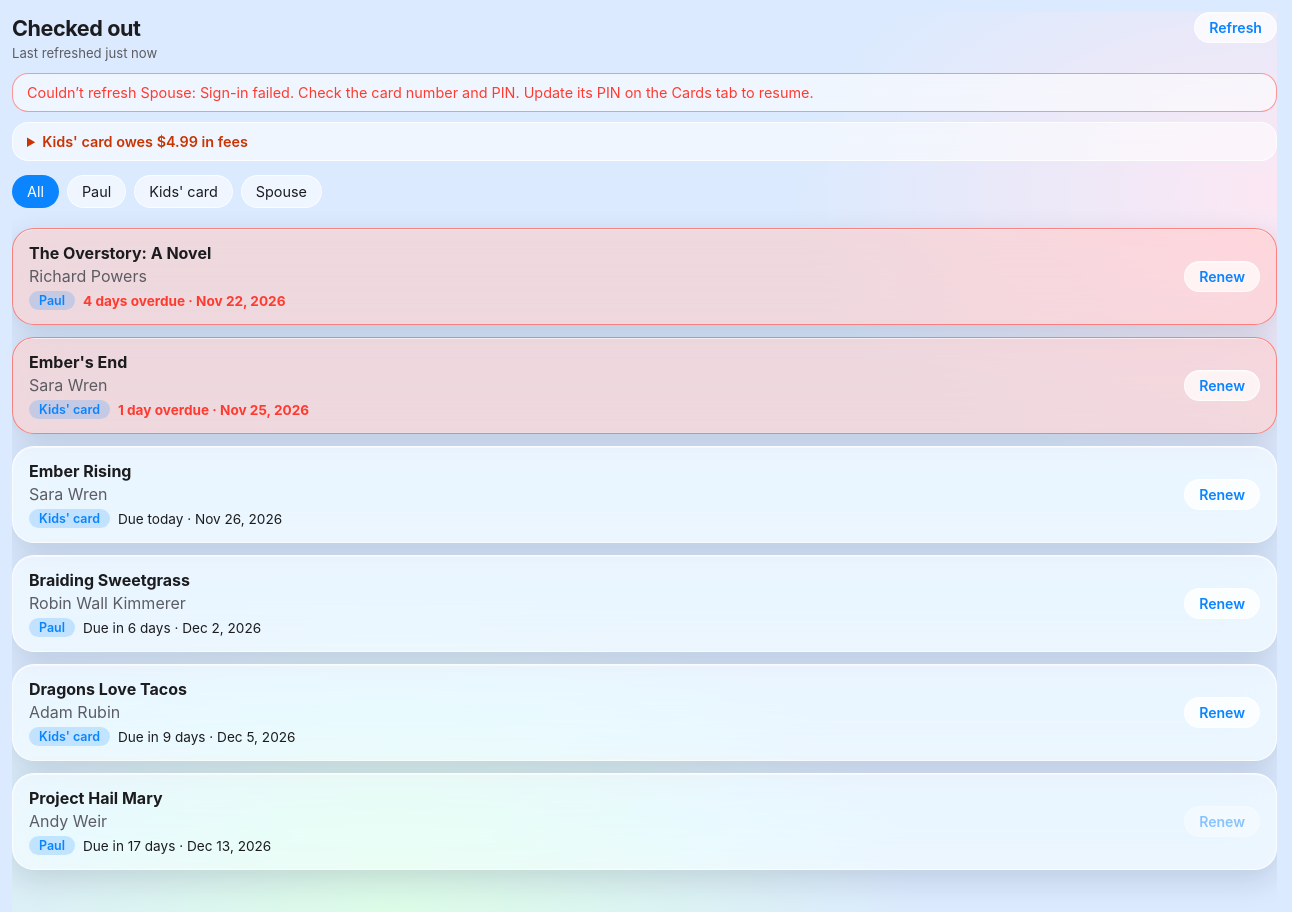
Test case: Checkouts › shows per-item renewal results, including failures from the library
Click the button with aria-label "Renew Ember Rising" at [1222, 495], box [1184,479,1260,510]
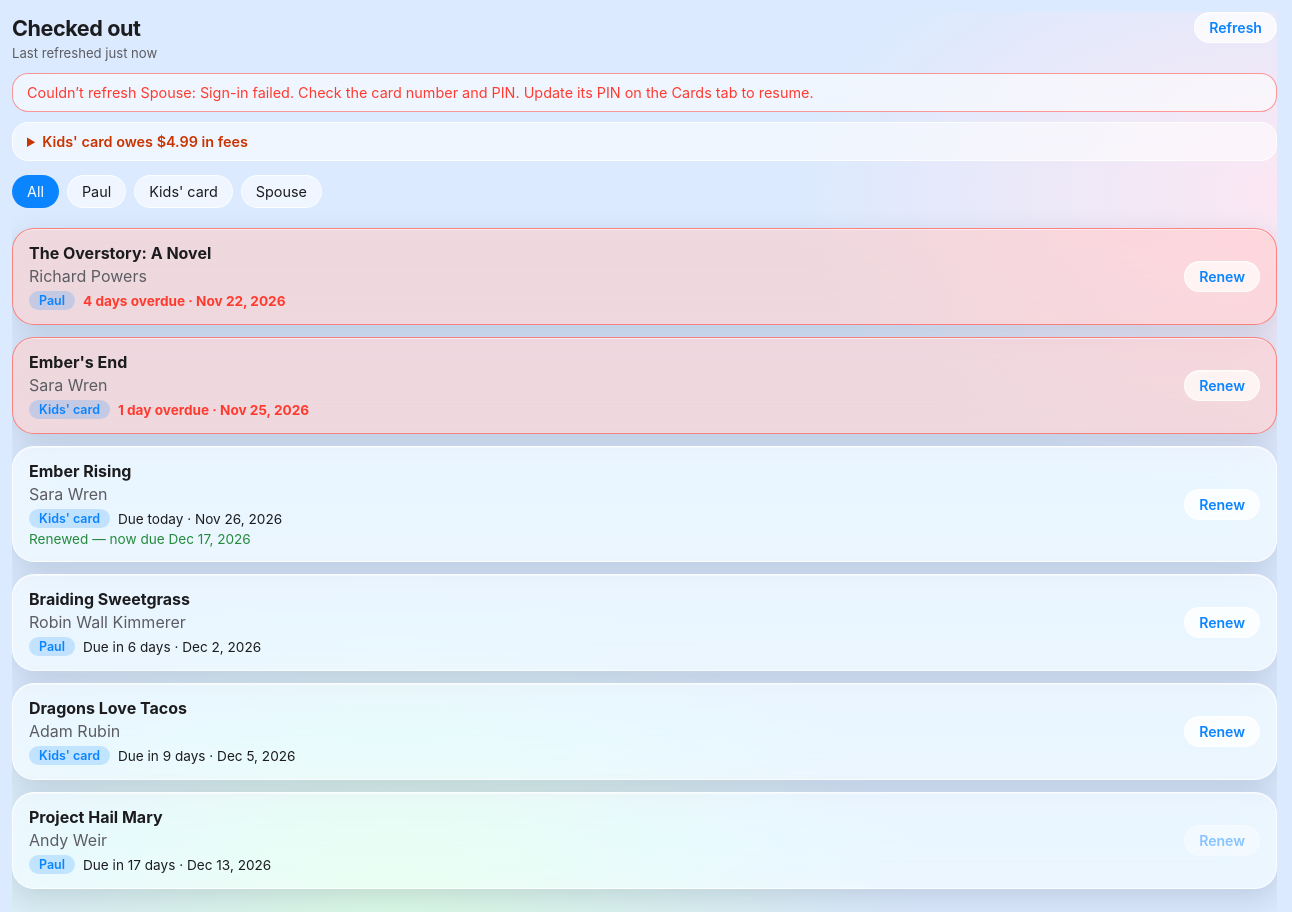
Expected: the text "Renewed — now due Dec 17, 2026" is shown, [29,531,282,547]
Click the button with aria-label "Renew Ember's End" at [1222, 386], box [1184,370,1260,401]
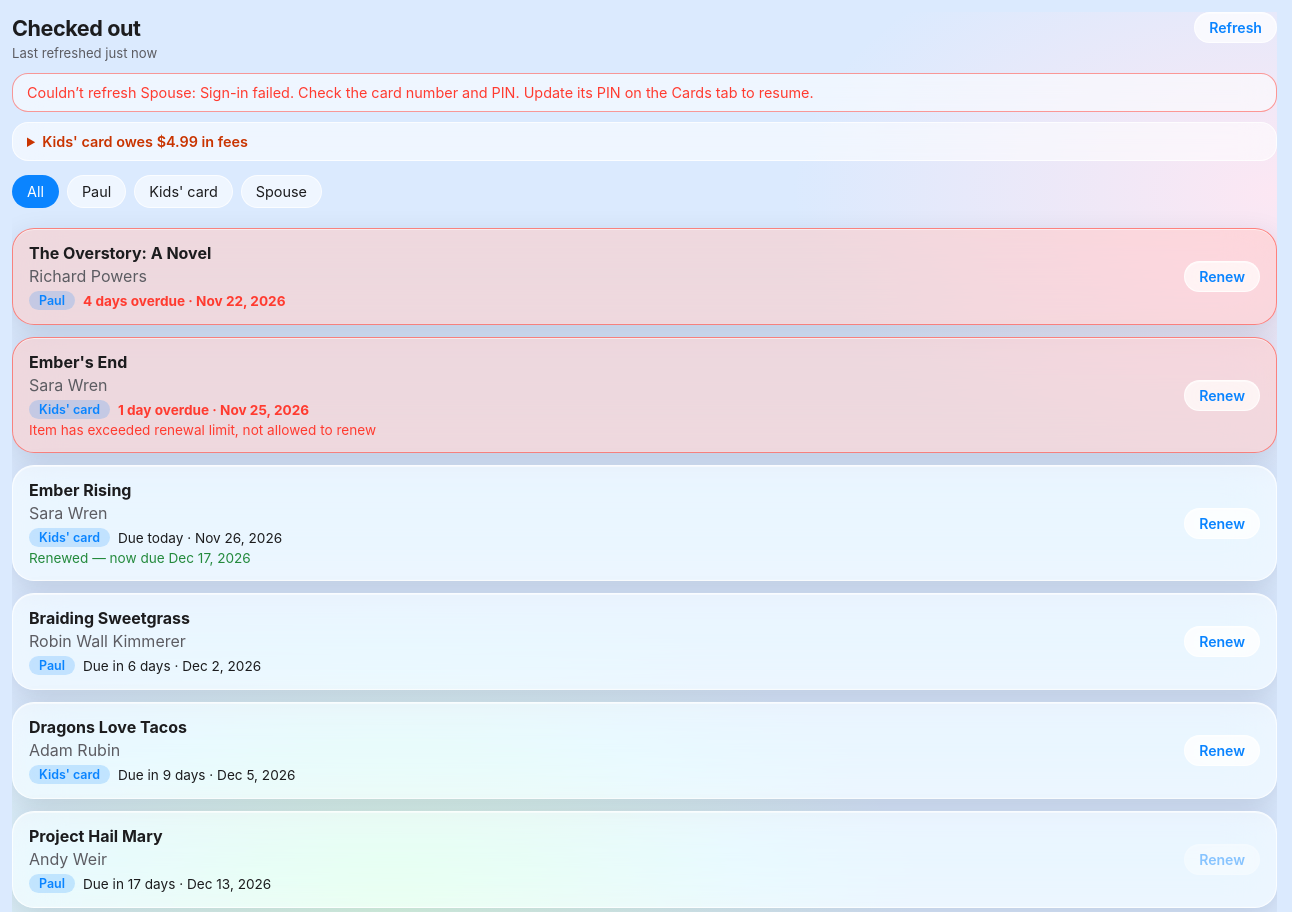
Expected: the text "Item has exceeded renewal limit, not allowed to renew" is shown, [29,422,376,438]
